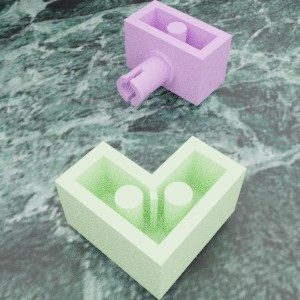lego: (54, 135, 246, 300), (116, 0, 232, 105)
